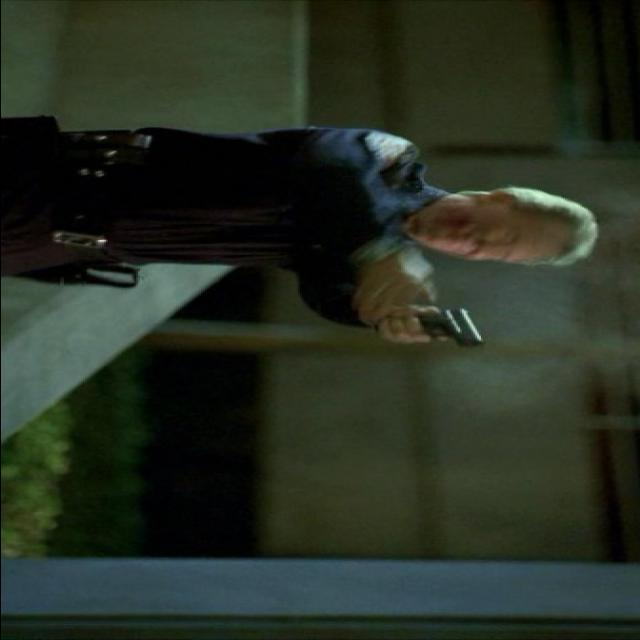weapons: (362, 296, 505, 360)
